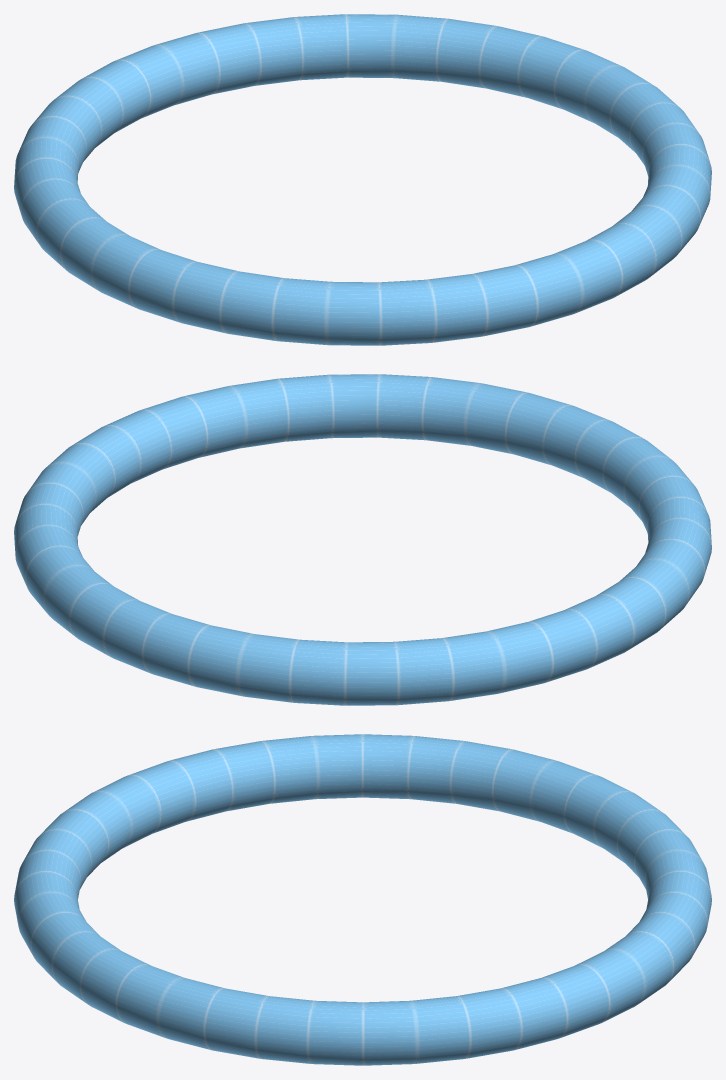
The model's file is Ring 1.fbx.
The picture shows the model from 3 angles, top to bottom: view 1: azimuth 30°, elevation 25°; view 2: azimuth 150°, elevation 25°; view 3: azimuth 270°, elevation 25°; orthographic projection.
Visible parts, largest first — view 1: pTorus1; view 2: pTorus1; view 3: pTorus1.
Part boxes in pixels (box(x1,y1,x2,y2)): pTorus1: box(14, 14, 711, 345); pTorus1: box(14, 374, 711, 705); pTorus1: box(14, 734, 711, 1065).
Size of the model in its own units: 4.4 by 0.4 by 4.4.
1 material, 1 textured.
